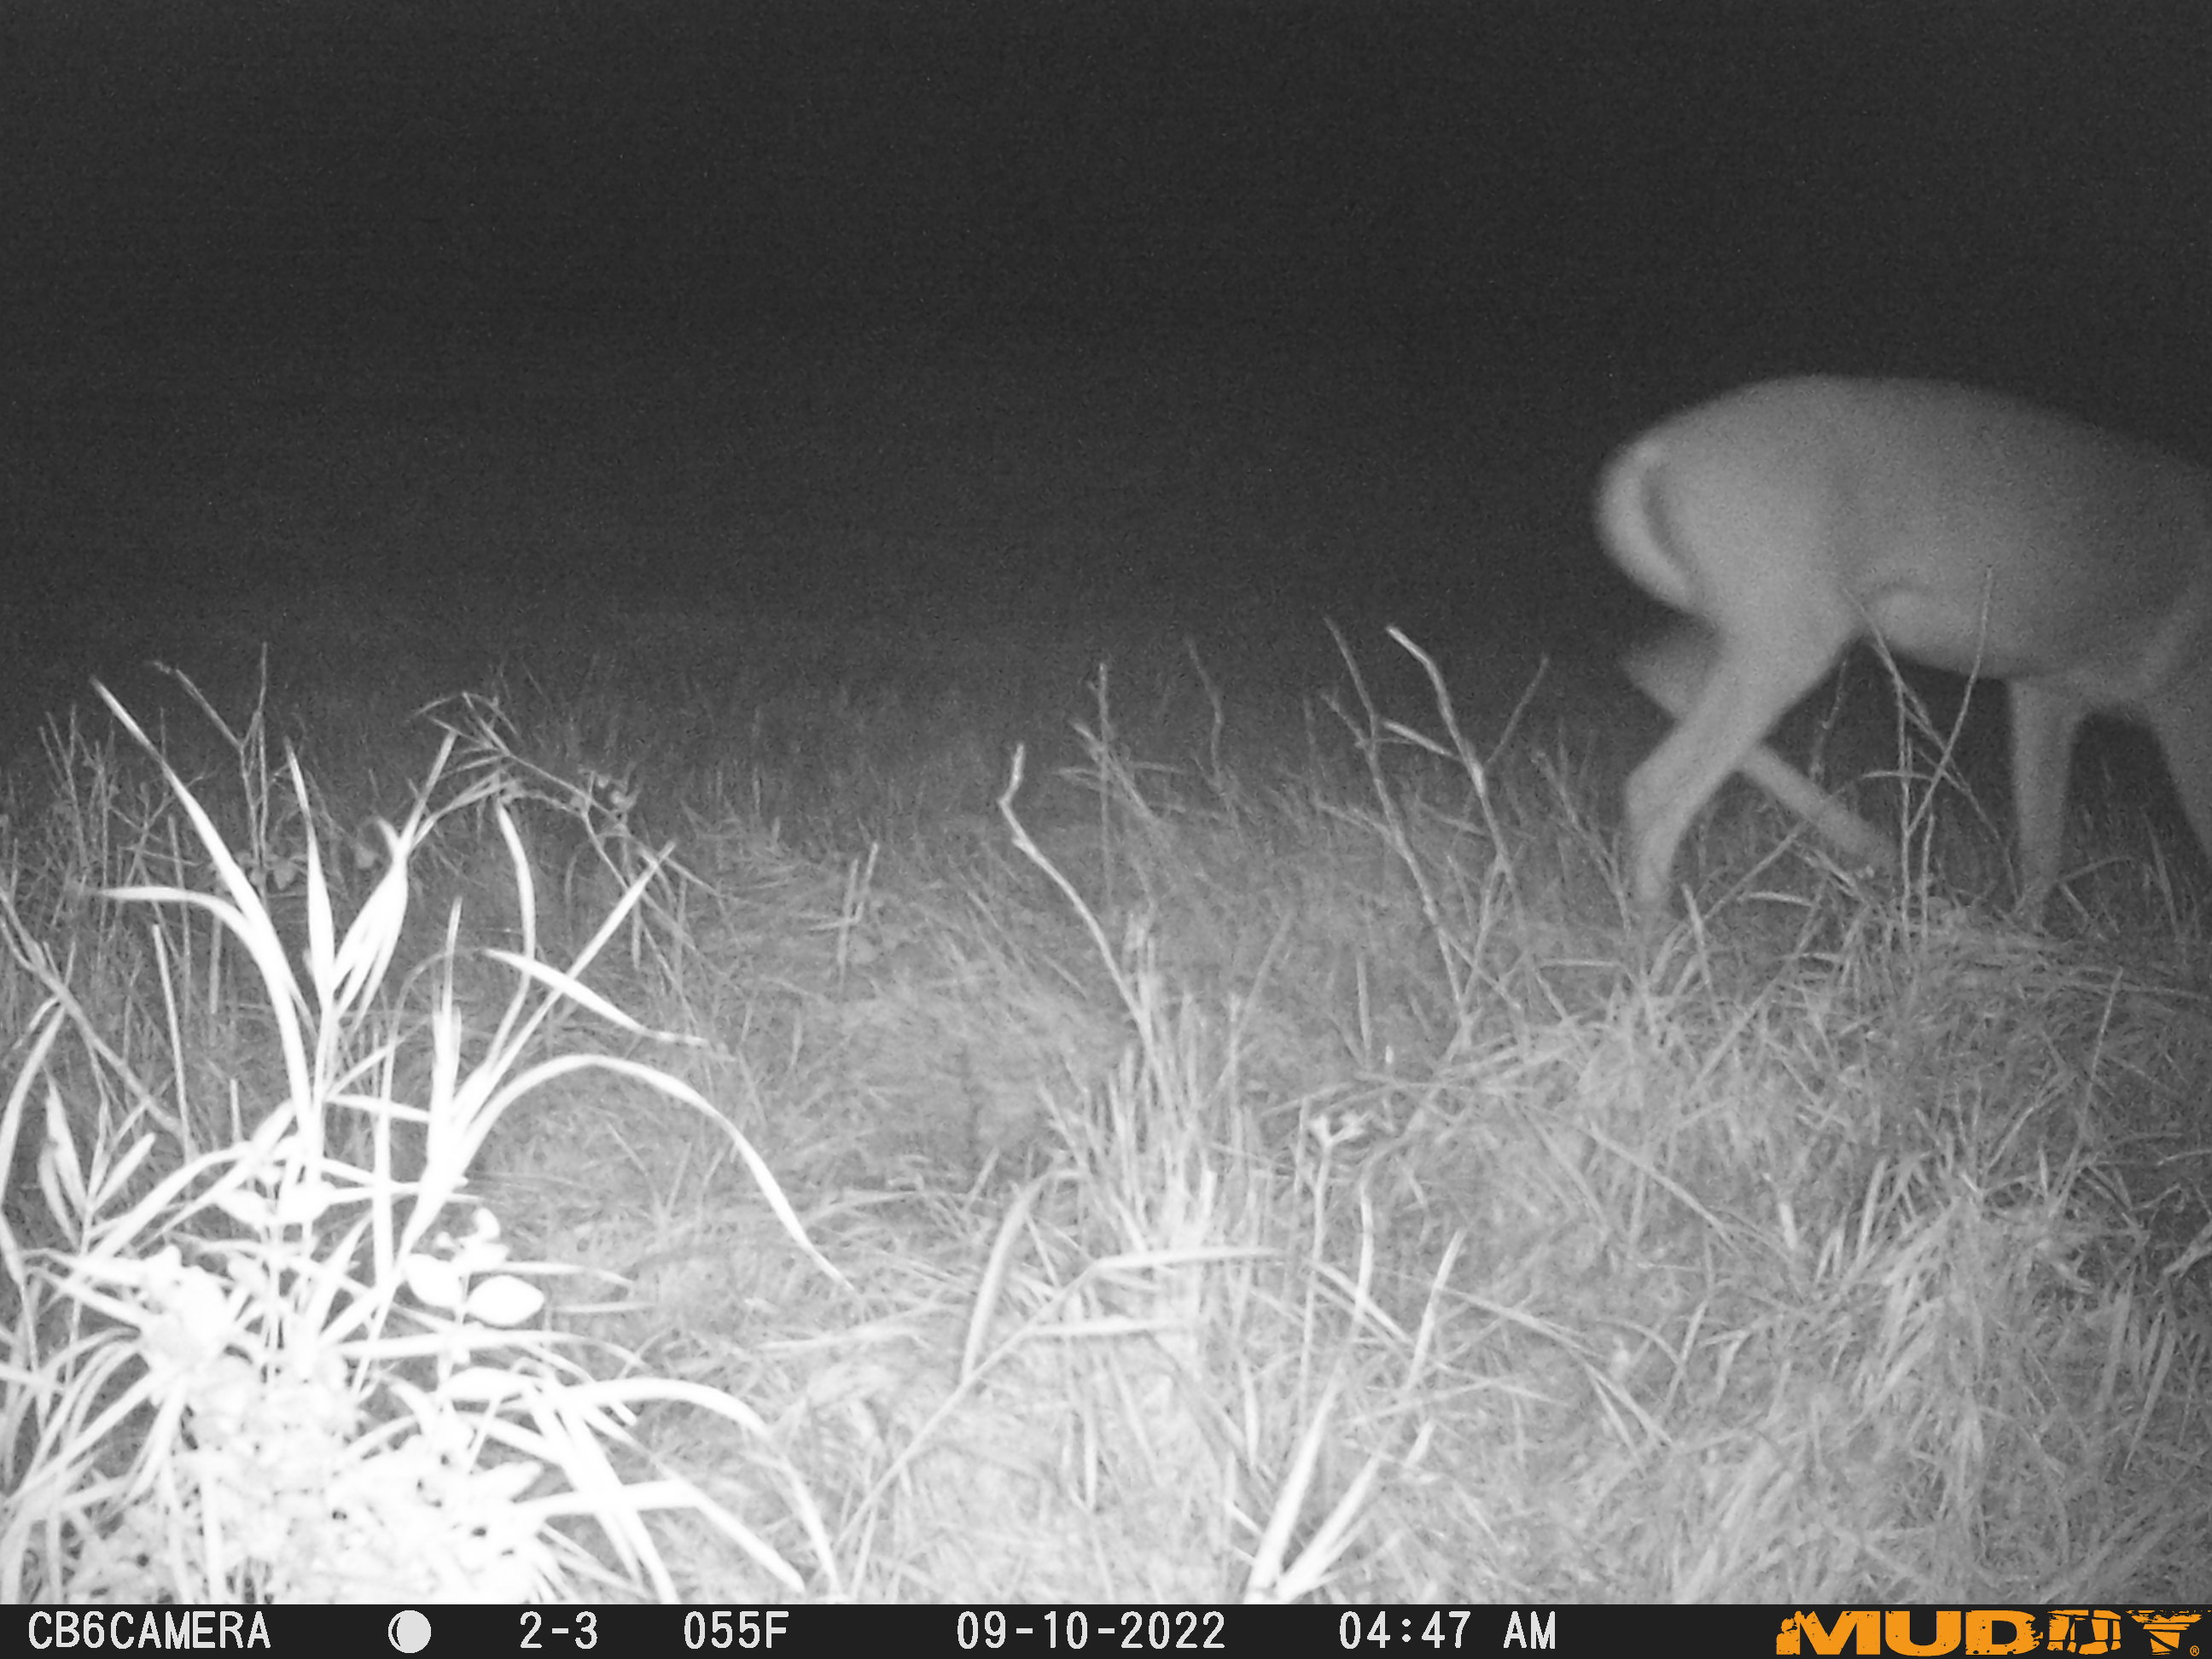Deer: (1583, 373, 2212, 920)
